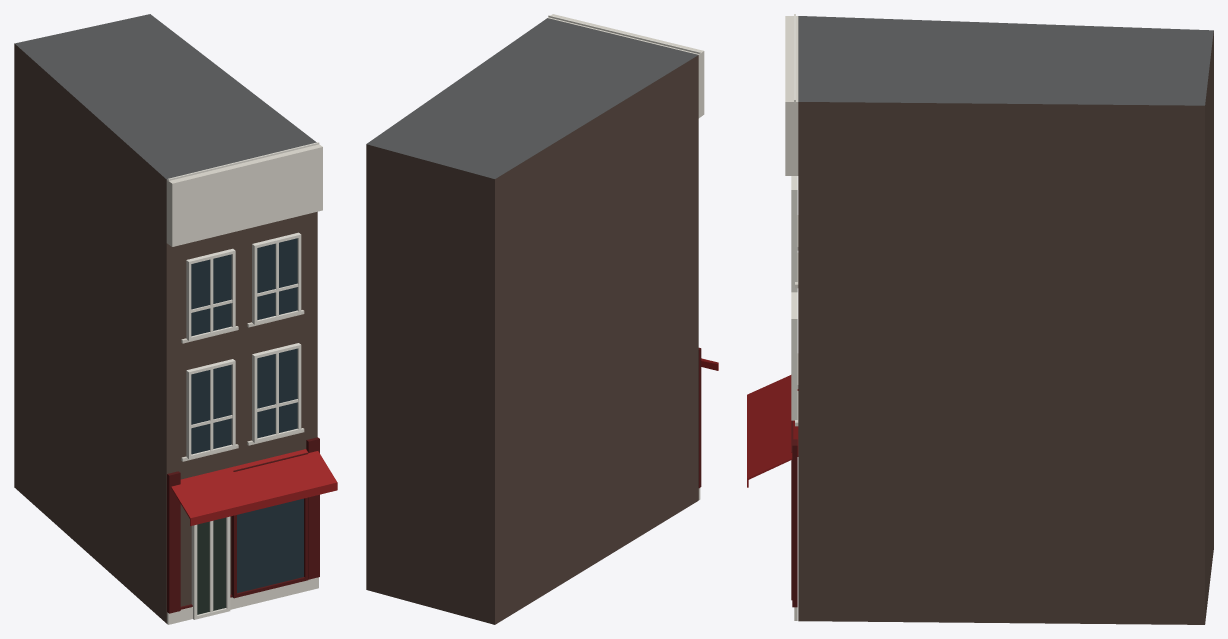
3 views of the same model, side by side, from view 1: azimuth 30°, elevation 25°; view 2: azimuth 150°, elevation 25°; view 3: azimuth 270°, elevation 25° (orthographic). The views are drawn at different scales.
Visible parts, largest first — view 1: spec-0363100012182855; view 2: spec-0363100012182855; view 3: spec-0363100012182855.
Boxes of the visible parts, x1,y1,x2,y2 form: spec-0363100012182855: (14, 14, 337, 624); spec-0363100012182855: (366, 14, 718, 624); spec-0363100012182855: (747, 14, 1213, 624).
Size of the model in its own units: 4.15 by 11.24 by 9.12.
